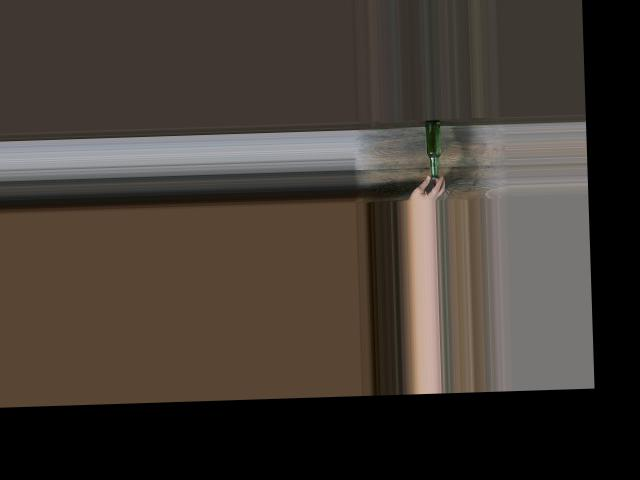beer: (425, 119, 442, 179)
